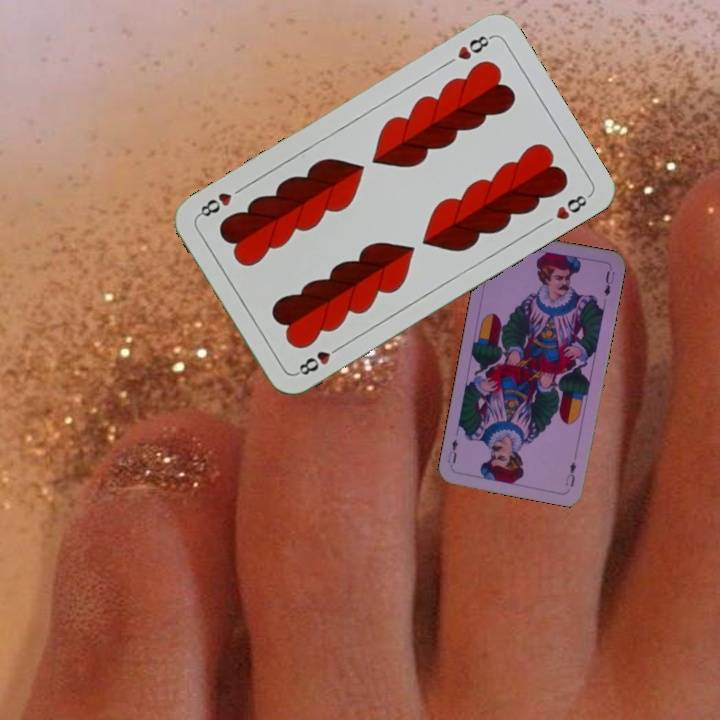EU: (561, 458, 579, 490)
H8: (291, 341, 345, 378), (453, 31, 495, 63)
